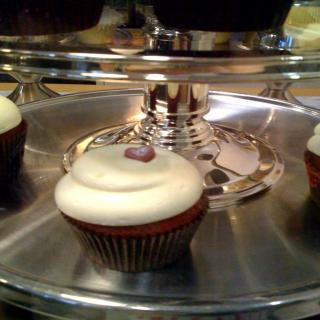Muffin: (54, 142, 209, 273), (0, 94, 29, 180), (74, 5, 126, 46), (304, 122, 320, 206)
